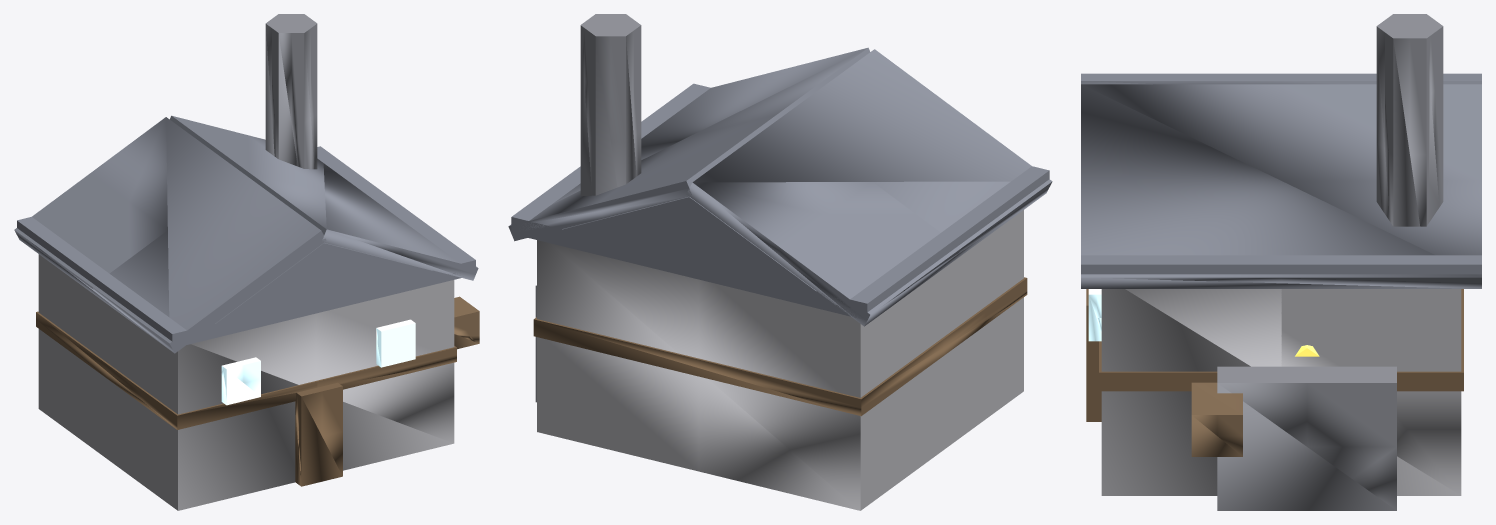
Rendered from blacksmith.glb.
The picture shows the model from 3 angles, left to right: view 1: azimuth 30°, elevation 25°; view 2: azimuth 150°, elevation 25°; view 3: azimuth 270°, elevation 25°; orthographic projection. The views are drawn at different scales.
Visible parts, largest first — view 1: BlacksmithWall; view 2: BlacksmithWall; view 3: BlacksmithWall.
Boxes of the visible parts, x1=… form: BlacksmithWall: x1=14, y1=14, x2=479, y2=510; BlacksmithWall: x1=508, y1=14, x2=1052, y2=510; BlacksmithWall: x1=1081, y1=14, x2=1481, y2=510.
Size of the model in its own units: 2.05 by 1.9 by 1.56.
